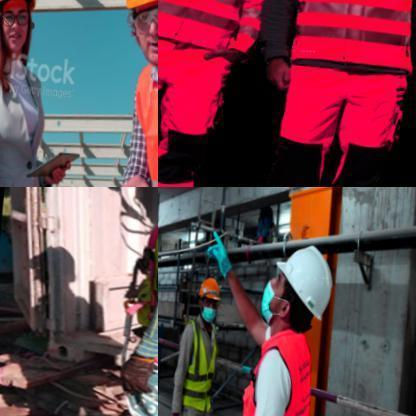vest: (286, 0, 415, 72), (233, 324, 323, 415), (158, 0, 283, 59), (115, 28, 157, 186), (125, 187, 157, 355), (182, 319, 225, 412)
